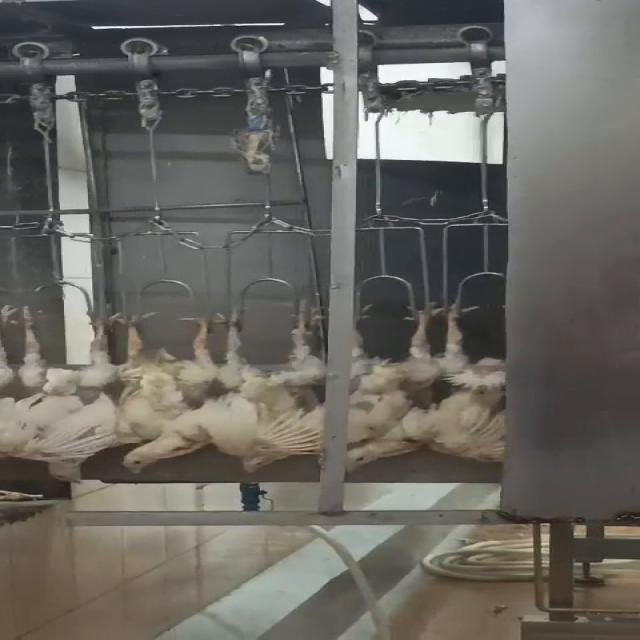chicken: (112, 303, 240, 476), (215, 292, 331, 473), (338, 293, 450, 477), (23, 301, 128, 489), (427, 292, 522, 466), (0, 307, 32, 463)
